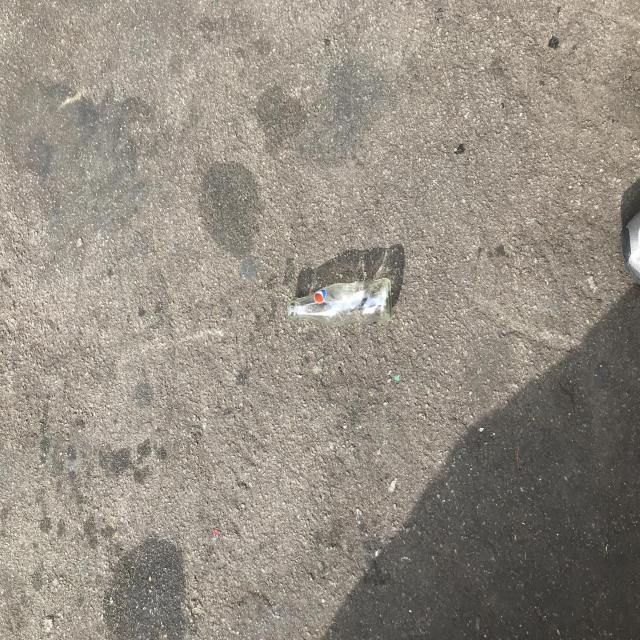glass: (288, 278, 392, 326)
